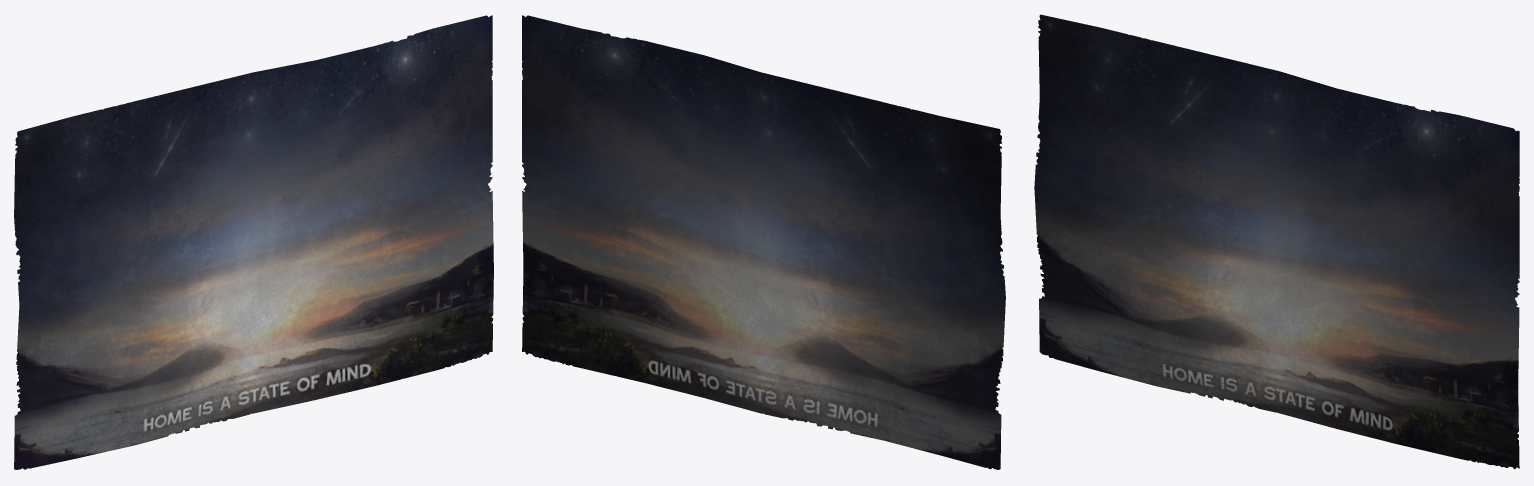
The model's file is poster_motivational01.dae.
3 renders of one model, left to right at view 1: azimuth 30°, elevation 25°; view 2: azimuth 150°, elevation 25°; view 3: azimuth 330°, elevation 25°, orthographic.
Visible parts, largest first — view 1: poster_motivational; view 2: poster_motivational; view 3: poster_motivational.
Part boxes in pixels (x1=…): poster_motivational: x1=14, y1=15, x2=493, y2=469; poster_motivational: x1=522, y1=15, x2=1005, y2=469; poster_motivational: x1=1034, y1=14, x2=1519, y2=469.
Bounding box in the file's own units: 123 × 83.58 × 2.79.
